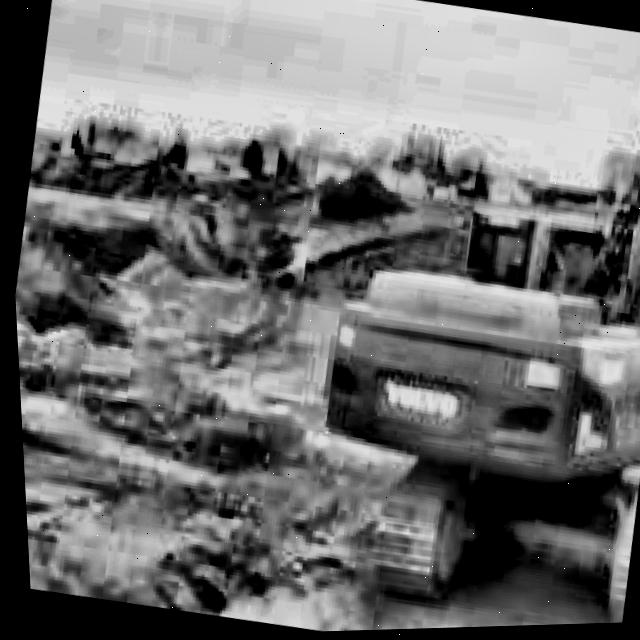excavator: (266, 0, 640, 630)
